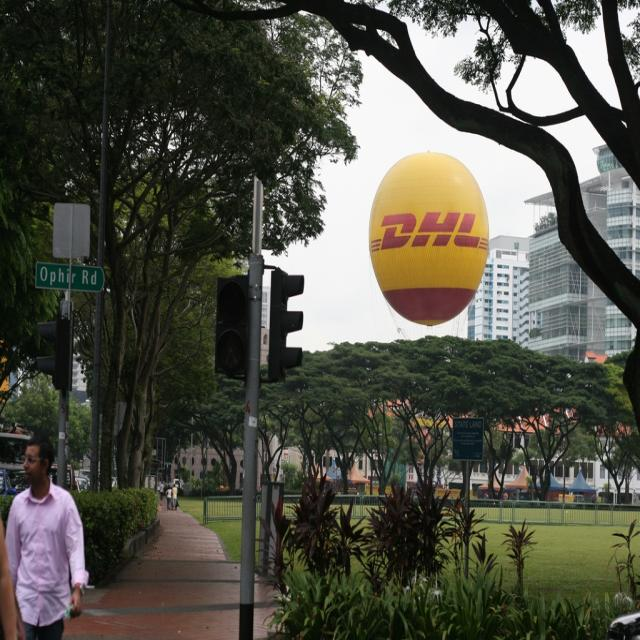dhl: (369, 203, 490, 259)
